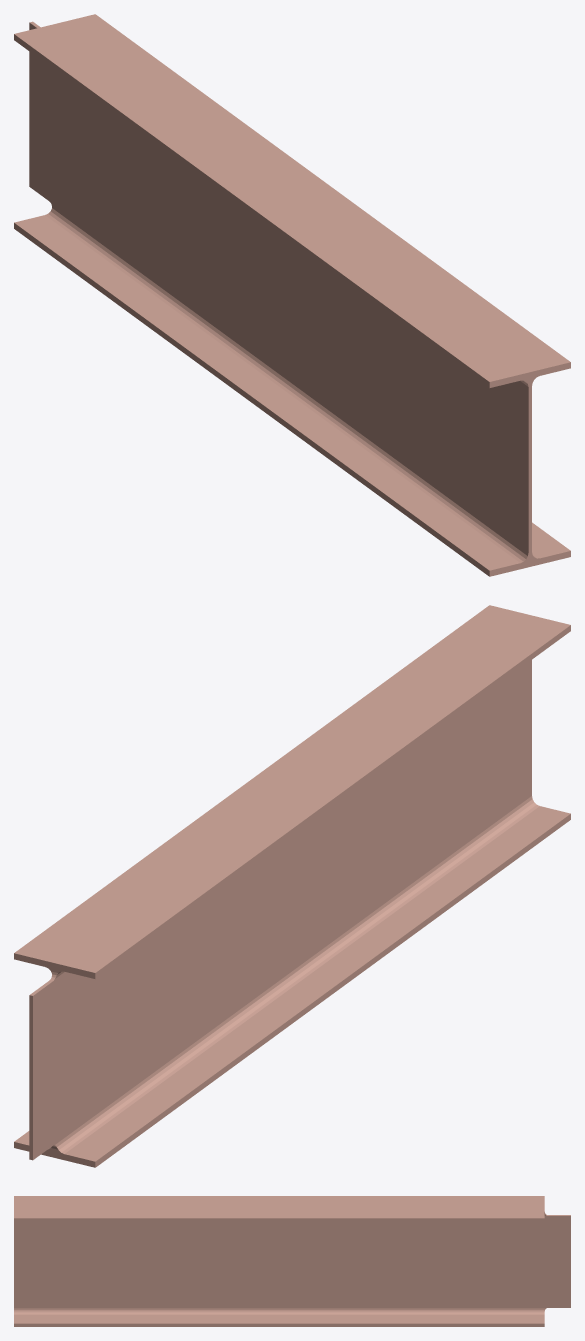
3 renders of one model, top to bottom at view 1: azimuth 30°, elevation 25°; view 2: azimuth 150°, elevation 25°; view 3: azimuth 270°, elevation 25°, orthographic. The views are drawn at different scales.
Visible parts, largest first — view 1: product-43e69ff8-d88a-477b-8a5b-bcebe568be06-body; view 2: product-43e69ff8-d88a-477b-8a5b-bcebe568be06-body; view 3: product-43e69ff8-d88a-477b-8a5b-bcebe568be06-body.
Boxes of the visible parts, x1,y1,x2,y2 form: product-43e69ff8-d88a-477b-8a5b-bcebe568be06-body: [14, 14, 570, 576]; product-43e69ff8-d88a-477b-8a5b-bcebe568be06-body: [14, 605, 570, 1167]; product-43e69ff8-d88a-477b-8a5b-bcebe568be06-body: [14, 1196, 570, 1326].
Size of the model in its own units: 0.1778 by 0.4064 by 1.89.
